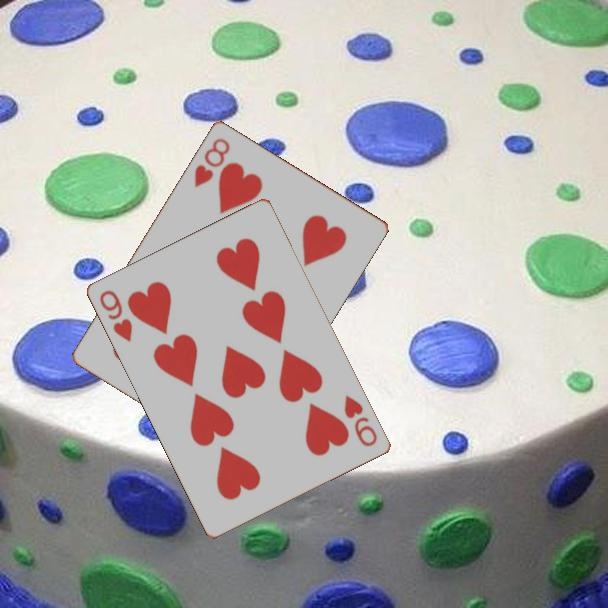h08: (191, 134, 233, 190)
h09: (341, 392, 381, 450), (96, 287, 136, 345)
